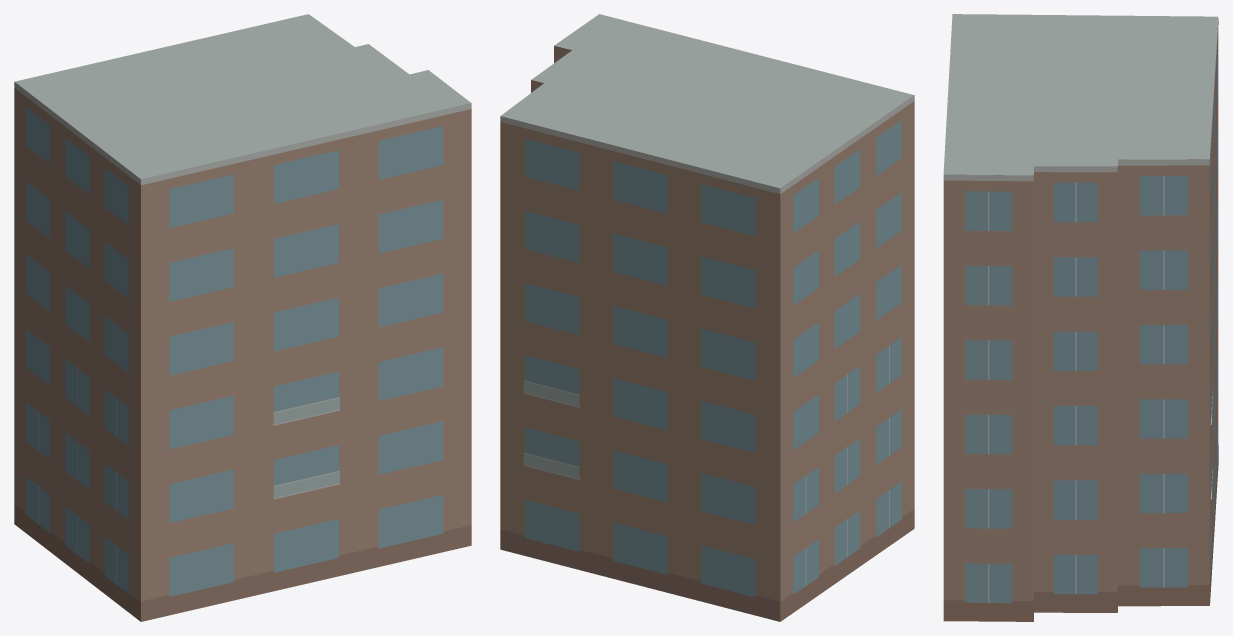
File: survey-upis-32656158.glb
The picture shows the model from 3 angles, left to right: view 1: azimuth 30°, elevation 25°; view 2: azimuth 150°, elevation 25°; view 3: azimuth 270°, elevation 25°; orthographic projection. The views are drawn at different scales.
Parts seen in each view (by area): view 1: survey-upis-32656158.tmp; view 2: survey-upis-32656158.tmp; view 3: survey-upis-32656158.tmp.
Boxes of the visible parts, left/top/right/bottom form: survey-upis-32656158.tmp: left=14, top=14, right=471, bottom=621; survey-upis-32656158.tmp: left=500, top=14, right=914, bottom=621; survey-upis-32656158.tmp: left=943, top=14, right=1218, bottom=621.
Size of the model in its own units: 14.2 by 18.3 by 10.23.
